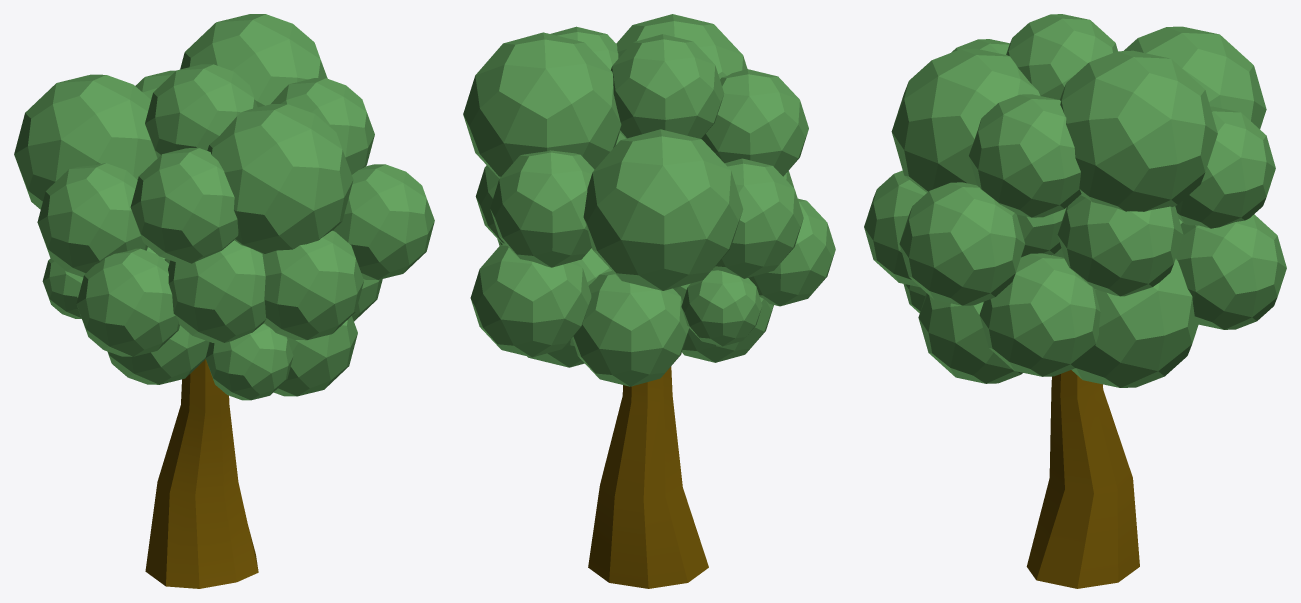
File: LowPoly Tree.fbx
3 renders of one model, left to right at view 1: azimuth 30°, elevation 25°; view 2: azimuth 150°, elevation 25°; view 3: azimuth 270°, elevation 25°, orthographic. The views are drawn at different scales.
Visible parts, largest first — view 1: pPlatonic27; view 2: pPlatonic27; view 3: pPlatonic27.
Part boxes in pixels (x1,y1,x2,y2): pPlatonic27: (14,14,434,588); pPlatonic27: (463,14,835,588); pPlatonic27: (864,14,1286,588).
Bounding box in the file's own units: 6.23 × 9.54 × 6.72.
